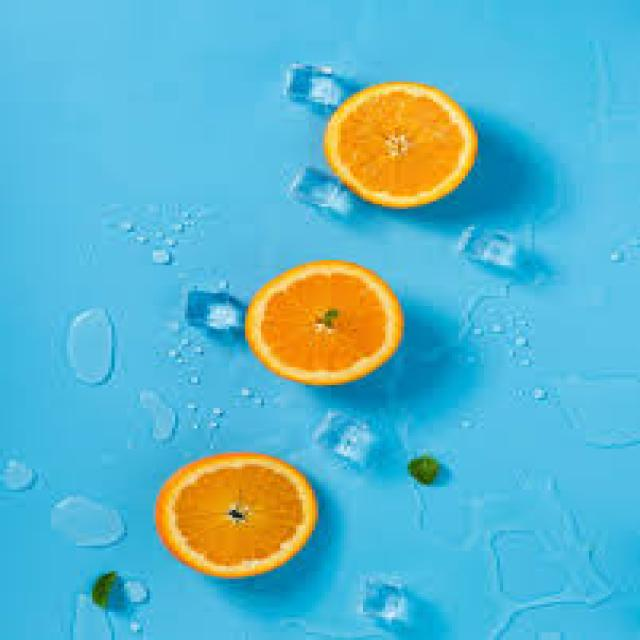orange: (318, 81, 474, 208)
